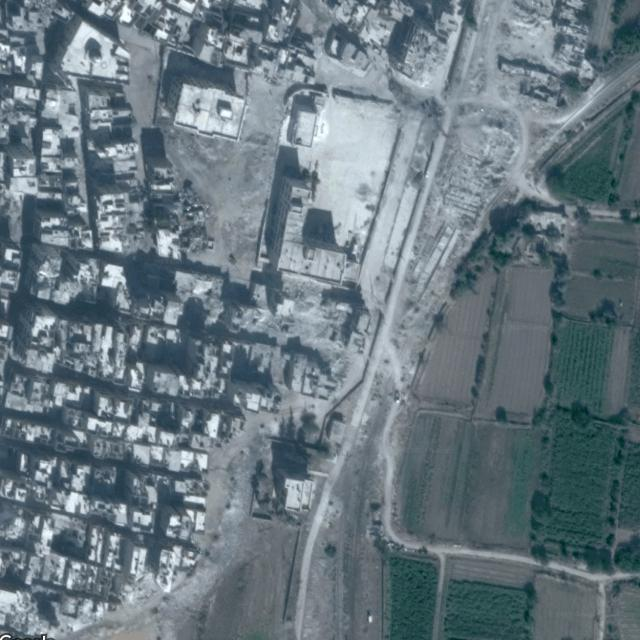damaged_building: (265, 278, 355, 388), (5, 589, 73, 637)
